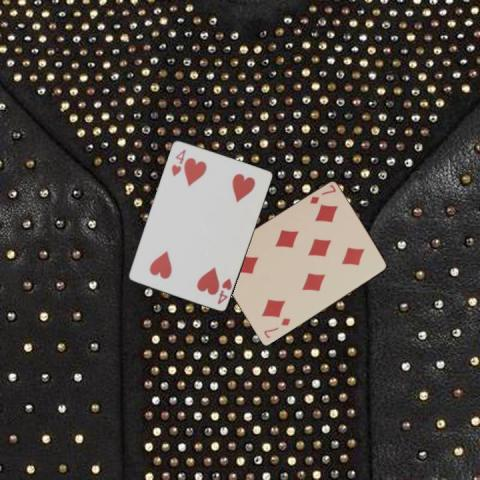4h: (168, 146, 187, 178), (214, 275, 233, 306)
7d: (261, 315, 292, 340), (307, 182, 337, 205)
